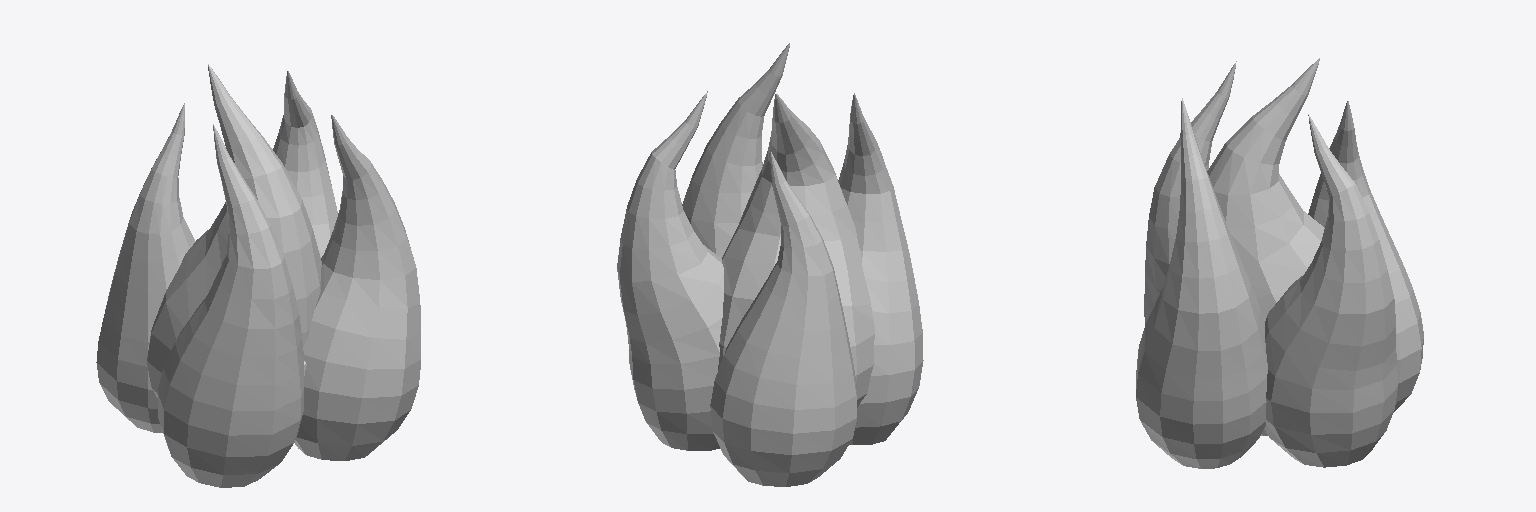
The model's file is fire_000048.obj.
3 views of the same model, side by side, from view 1: azimuth 30°, elevation 25°; view 2: azimuth 150°, elevation 25°; view 3: azimuth 270°, elevation 25° (orthographic).
Parts seen in each view (by area): view 1: flame_NurbsPath.015; view 2: flame_NurbsPath.015; view 3: flame_NurbsPath.015.
Boxes of the visible parts, box(x1,y1,x2,y2) form: flame_NurbsPath.015: box(96, 64, 420, 487); flame_NurbsPath.015: box(617, 43, 923, 486); flame_NurbsPath.015: box(1136, 58, 1423, 468).
Size of the model in its own units: 0.768 by 1.13 by 0.8031.